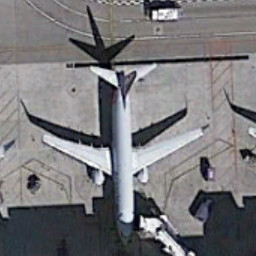Airplane: (30, 55, 210, 252)
